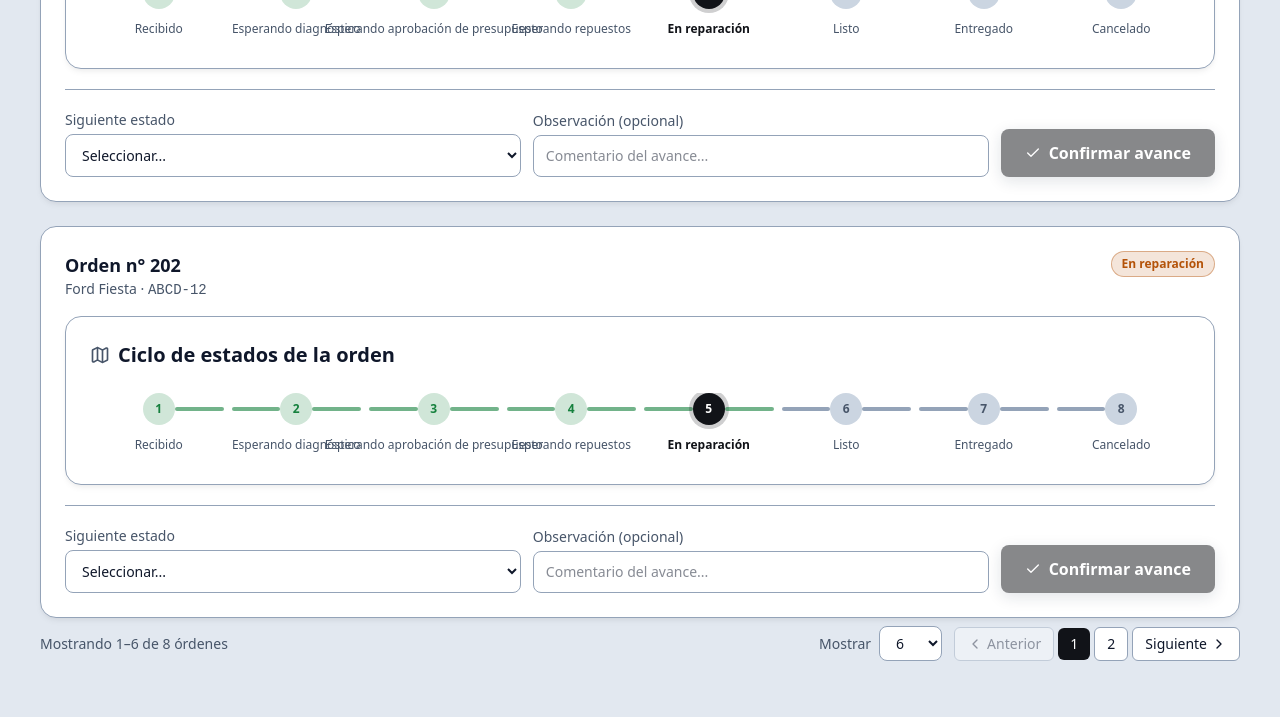
MechanicStatusPage: actualización de estados de las órdenes › pagina las órdenes y respeta el tamaño de página elegido
(page scrolled)
expect the heading "Orden n° 202" is shown: met, box [65,253,181,277]
expect the text "Orden n° 201" is not shown: met
Click the button "Siguiente". click: (1186, 644)
box: [1132,626,1240,660]
(page scrolled)
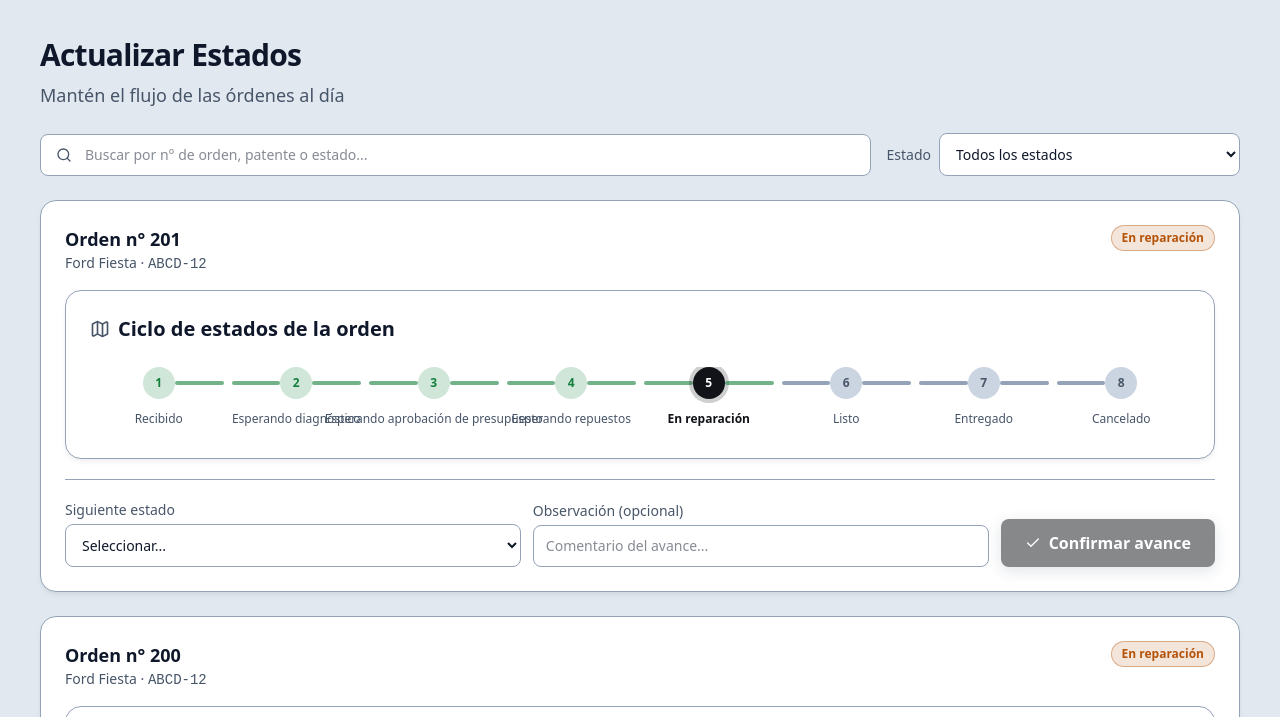
expect the heading "Orden n° 201" is shown: met, box [65,227,181,251]
